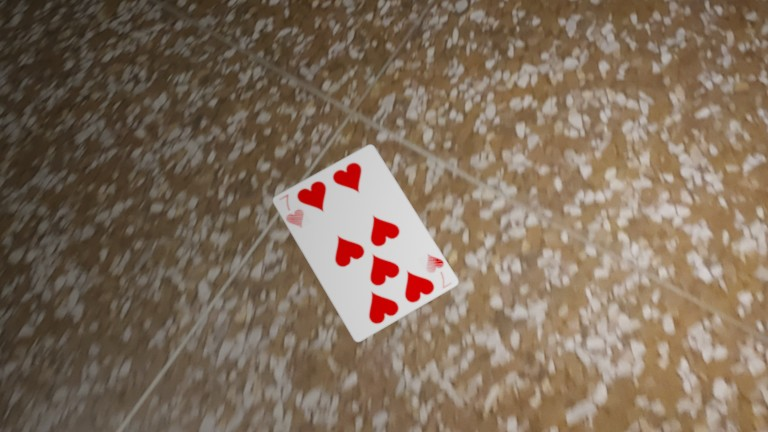7_of_hearts: (167, 99, 183, 117), (110, 76, 125, 93)
